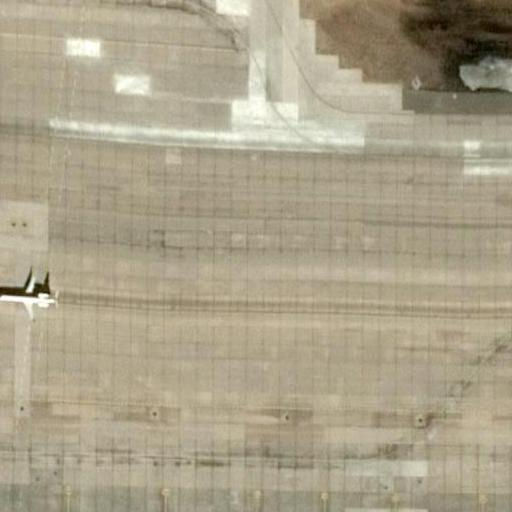Aircraft: (0, 270, 62, 321)
